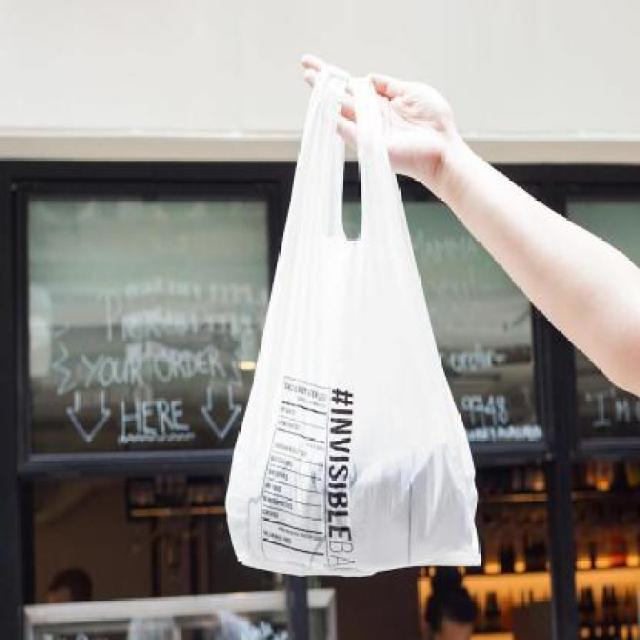plastic bag: (224, 51, 490, 588)
